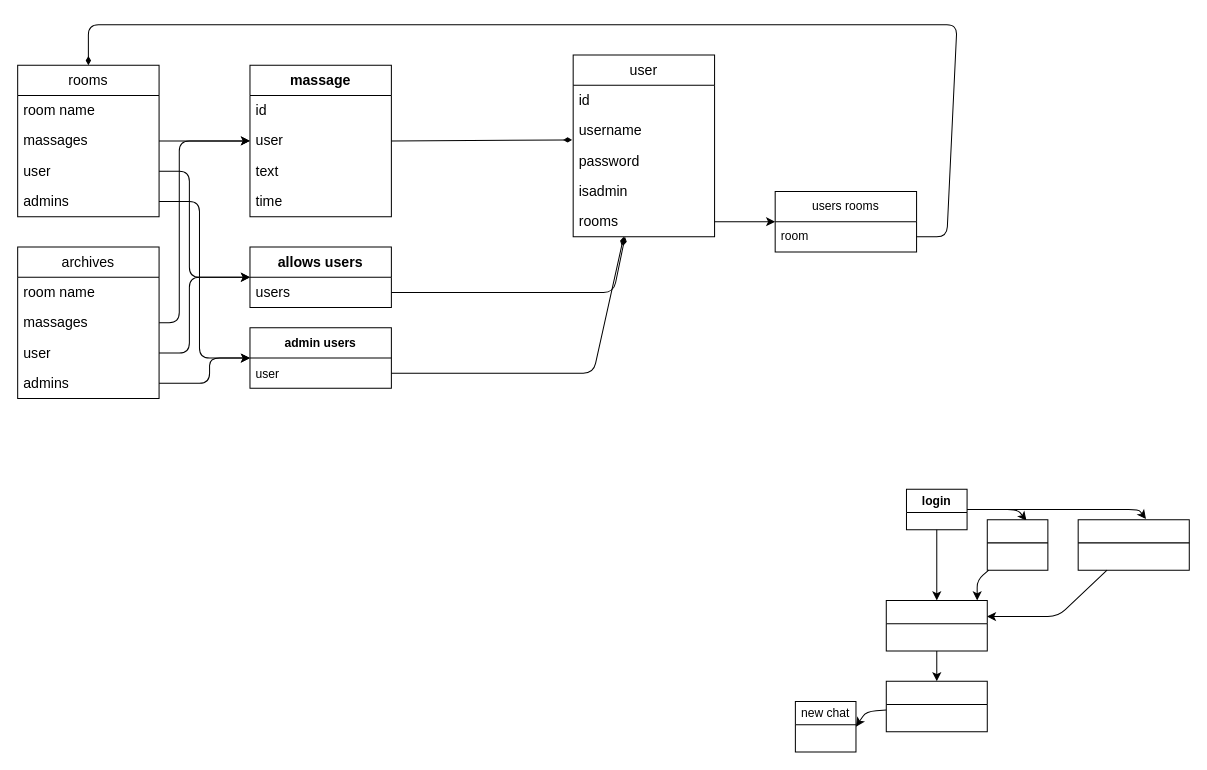
Some shapes in this 1207 by 770 pixel diagram are drawn without their labels. Each missing label, with the centre of its shape:
"aunthenitication" belongs at [936,625].
"chat senter" belongs at [936,706].
"password resat" belongs at [1133,544].
"sing in" belongs at [1017,544].
